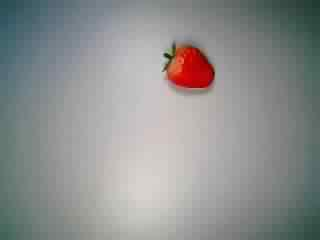strawberry: (150, 32, 216, 98)
